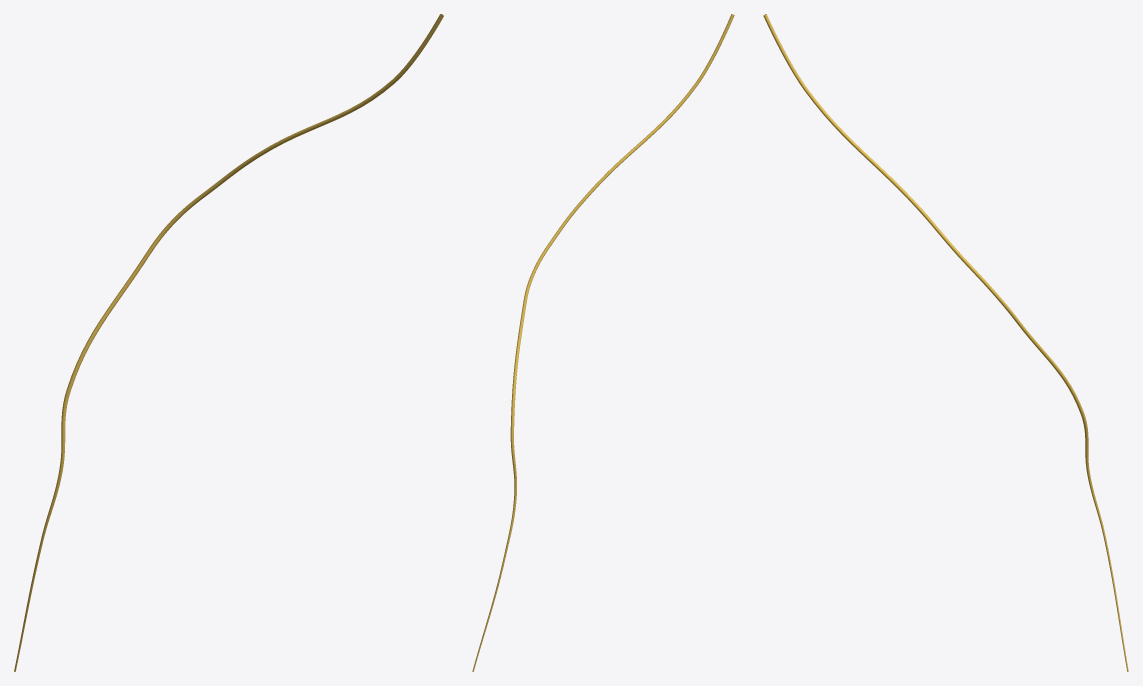
File: Dorsal_scapular_nerve_left.glb
The picture shows the model from 3 angles, left to right: view 1: azimuth 90°, elevation 25°; view 2: azimuth 150°, elevation 25°; view 3: azimuth 270°, elevation 25°; orthographic projection. The views are drawn at different scales.
Visible parts, largest first — view 1: Dorsal_scapular_nerve.l_BezierCurve.529; view 2: Dorsal_scapular_nerve.l_BezierCurve.529; view 3: Dorsal_scapular_nerve.l_BezierCurve.529.
Part boxes in pixels (left/top/right/bottom): Dorsal_scapular_nerve.l_BezierCurve.529: left=14, top=14, right=443, bottom=671; Dorsal_scapular_nerve.l_BezierCurve.529: left=472, top=14, right=734, bottom=671; Dorsal_scapular_nerve.l_BezierCurve.529: left=763, top=14, right=1128, bottom=671.
Bounding box in the file's own units: 0.0332 × 0.1789 × 0.0974.
